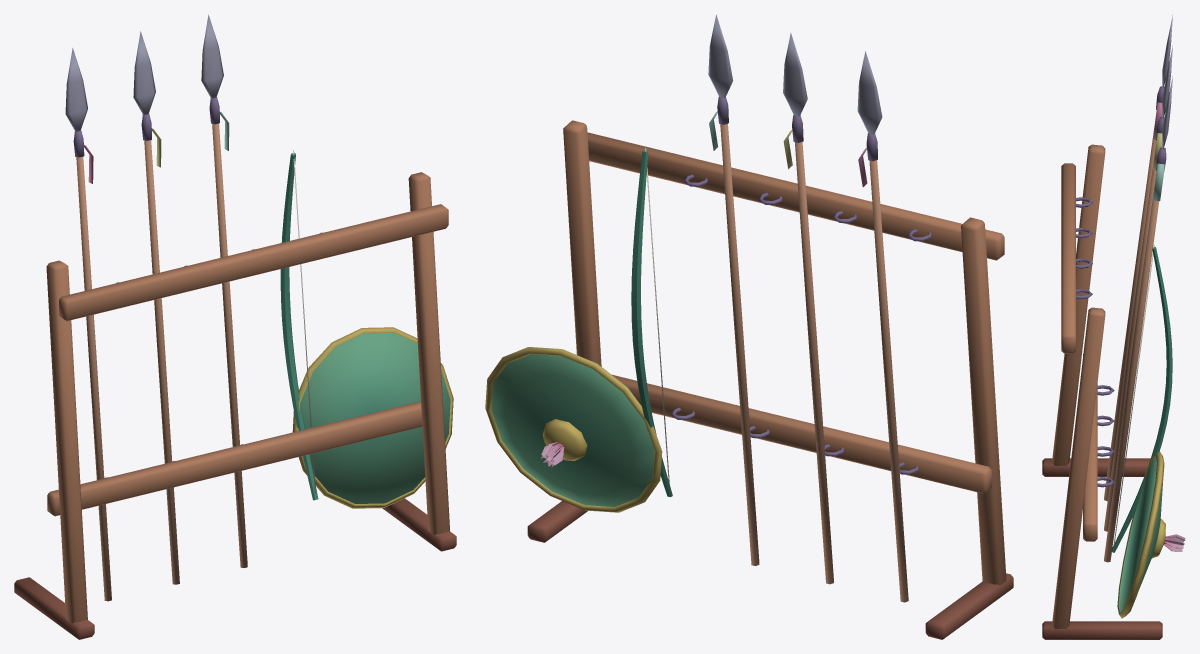
File: sentry_weapon_rack.glb
The picture shows the model from 3 angles, left to right: view 1: azimuth 30°, elevation 25°; view 2: azimuth 150°, elevation 25°; view 3: azimuth 270°, elevation 25°; orthographic projection. The views are drawn at different scales.
Parts seen in each view (by area): view 1: sentry_weapon_rack; view 2: sentry_weapon_rack; view 3: sentry_weapon_rack.
Boxes of the visible parts, <box> form: sentry_weapon_rack: <box>14,14,456,639</box>; sentry_weapon_rack: <box>485,14,1013,639</box>; sentry_weapon_rack: <box>1042,15,1185,639</box>.
Size of what is drawn, in the model's own units: 1.91 by 2.22 by 0.596.
